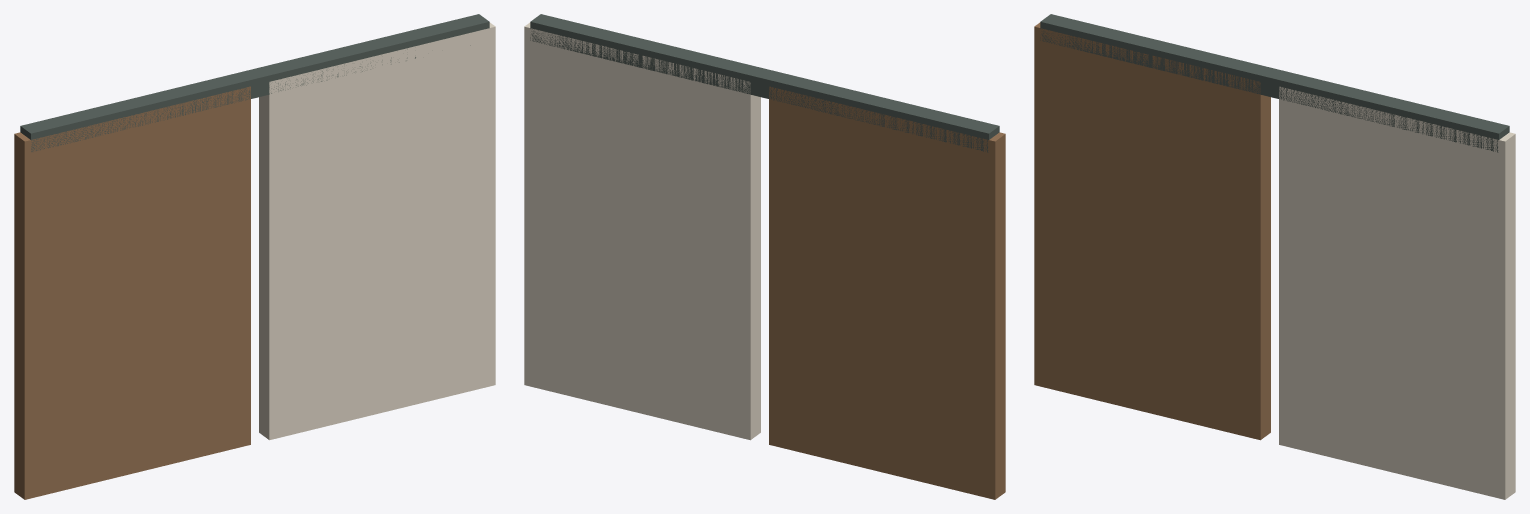
3 renders of one model, left to right at view 1: azimuth 30°, elevation 25°; view 2: azimuth 150°, elevation 25°; view 3: azimuth 330°, elevation 25°, orthographic.
Visible parts, largest first — view 1: cover-left, cover-right, cover-rail; view 2: cover-left, cover-right, cover-rail; view 3: cover-right, cover-left, cover-rail.
Part boxes in pixels (x1,y1,x2,y2): cover-left: [14, 86, 250, 499]; cover-right: [259, 22, 495, 440]; cover-rail: [20, 14, 489, 151]; cover-left: [769, 86, 1005, 499]; cover-right: [524, 22, 760, 440]; cover-rail: [530, 14, 999, 152]; cover-right: [1279, 86, 1515, 499]; cover-left: [1034, 22, 1270, 440]; cover-rail: [1040, 14, 1509, 152].
Size of the model in its own units: 1.54 by 1.14 by 0.06.
